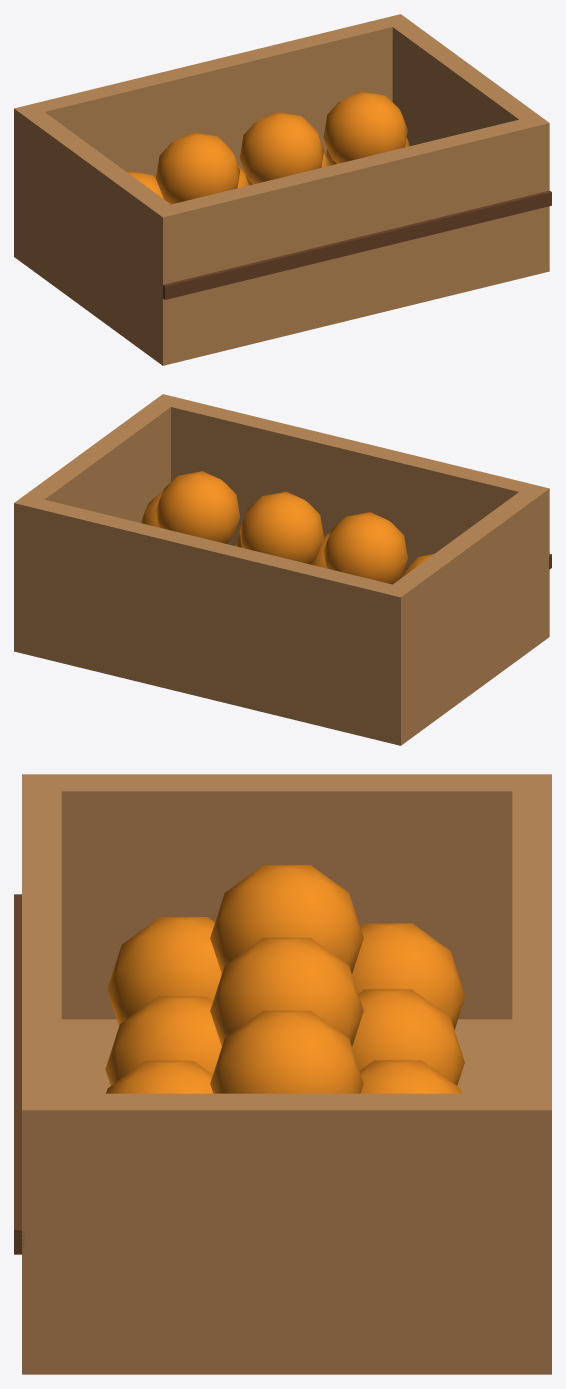
File: decoracion-caja-naranjas.glb
3 views of the same model, one above another, from view 1: azimuth 30°, elevation 25°; view 2: azimuth 150°, elevation 25°; view 3: azimuth 270°, elevation 25° (orthographic). The views are drawn at different scales.
Parts seen in each view (by area): view 1: caja_naranjas_MaderaCajon, caja_naranjas_FrutaNaranja, caja_naranjas_MaderaOscura; view 2: caja_naranjas_MaderaCajon, caja_naranjas_FrutaNaranja; view 3: caja_naranjas_MaderaCajon, caja_naranjas_FrutaNaranja, caja_naranjas_MaderaOscura.
Boxes of the visible parts, left/top/right/bottom form: caja_naranjas_MaderaCajon: left=14, top=14, right=549, bottom=365; caja_naranjas_FrutaNaranja: left=126, top=91, right=409, bottom=204; caja_naranjas_MaderaOscura: left=163, top=190, right=551, bottom=299; caja_naranjas_MaderaCajon: left=14, top=394, right=549, bottom=745; caja_naranjas_FrutaNaranja: left=140, top=471, right=433, bottom=584; caja_naranjas_MaderaCajon: left=22, top=774, right=551, bottom=1374; caja_naranjas_FrutaNaranja: left=105, top=865, right=465, bottom=1093; caja_naranjas_MaderaOscura: left=14, top=894, right=24, bottom=1254.
Bounding box in the file's own units: 0.6 × 0.221 × 0.406.
